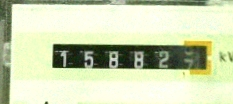1: (58, 48, 68, 66)
2: (157, 48, 170, 69)
5: (80, 49, 95, 68)
7: (181, 56, 194, 68)
8: (131, 48, 145, 69), (107, 48, 120, 69)
screen: (46, 35, 216, 79)
